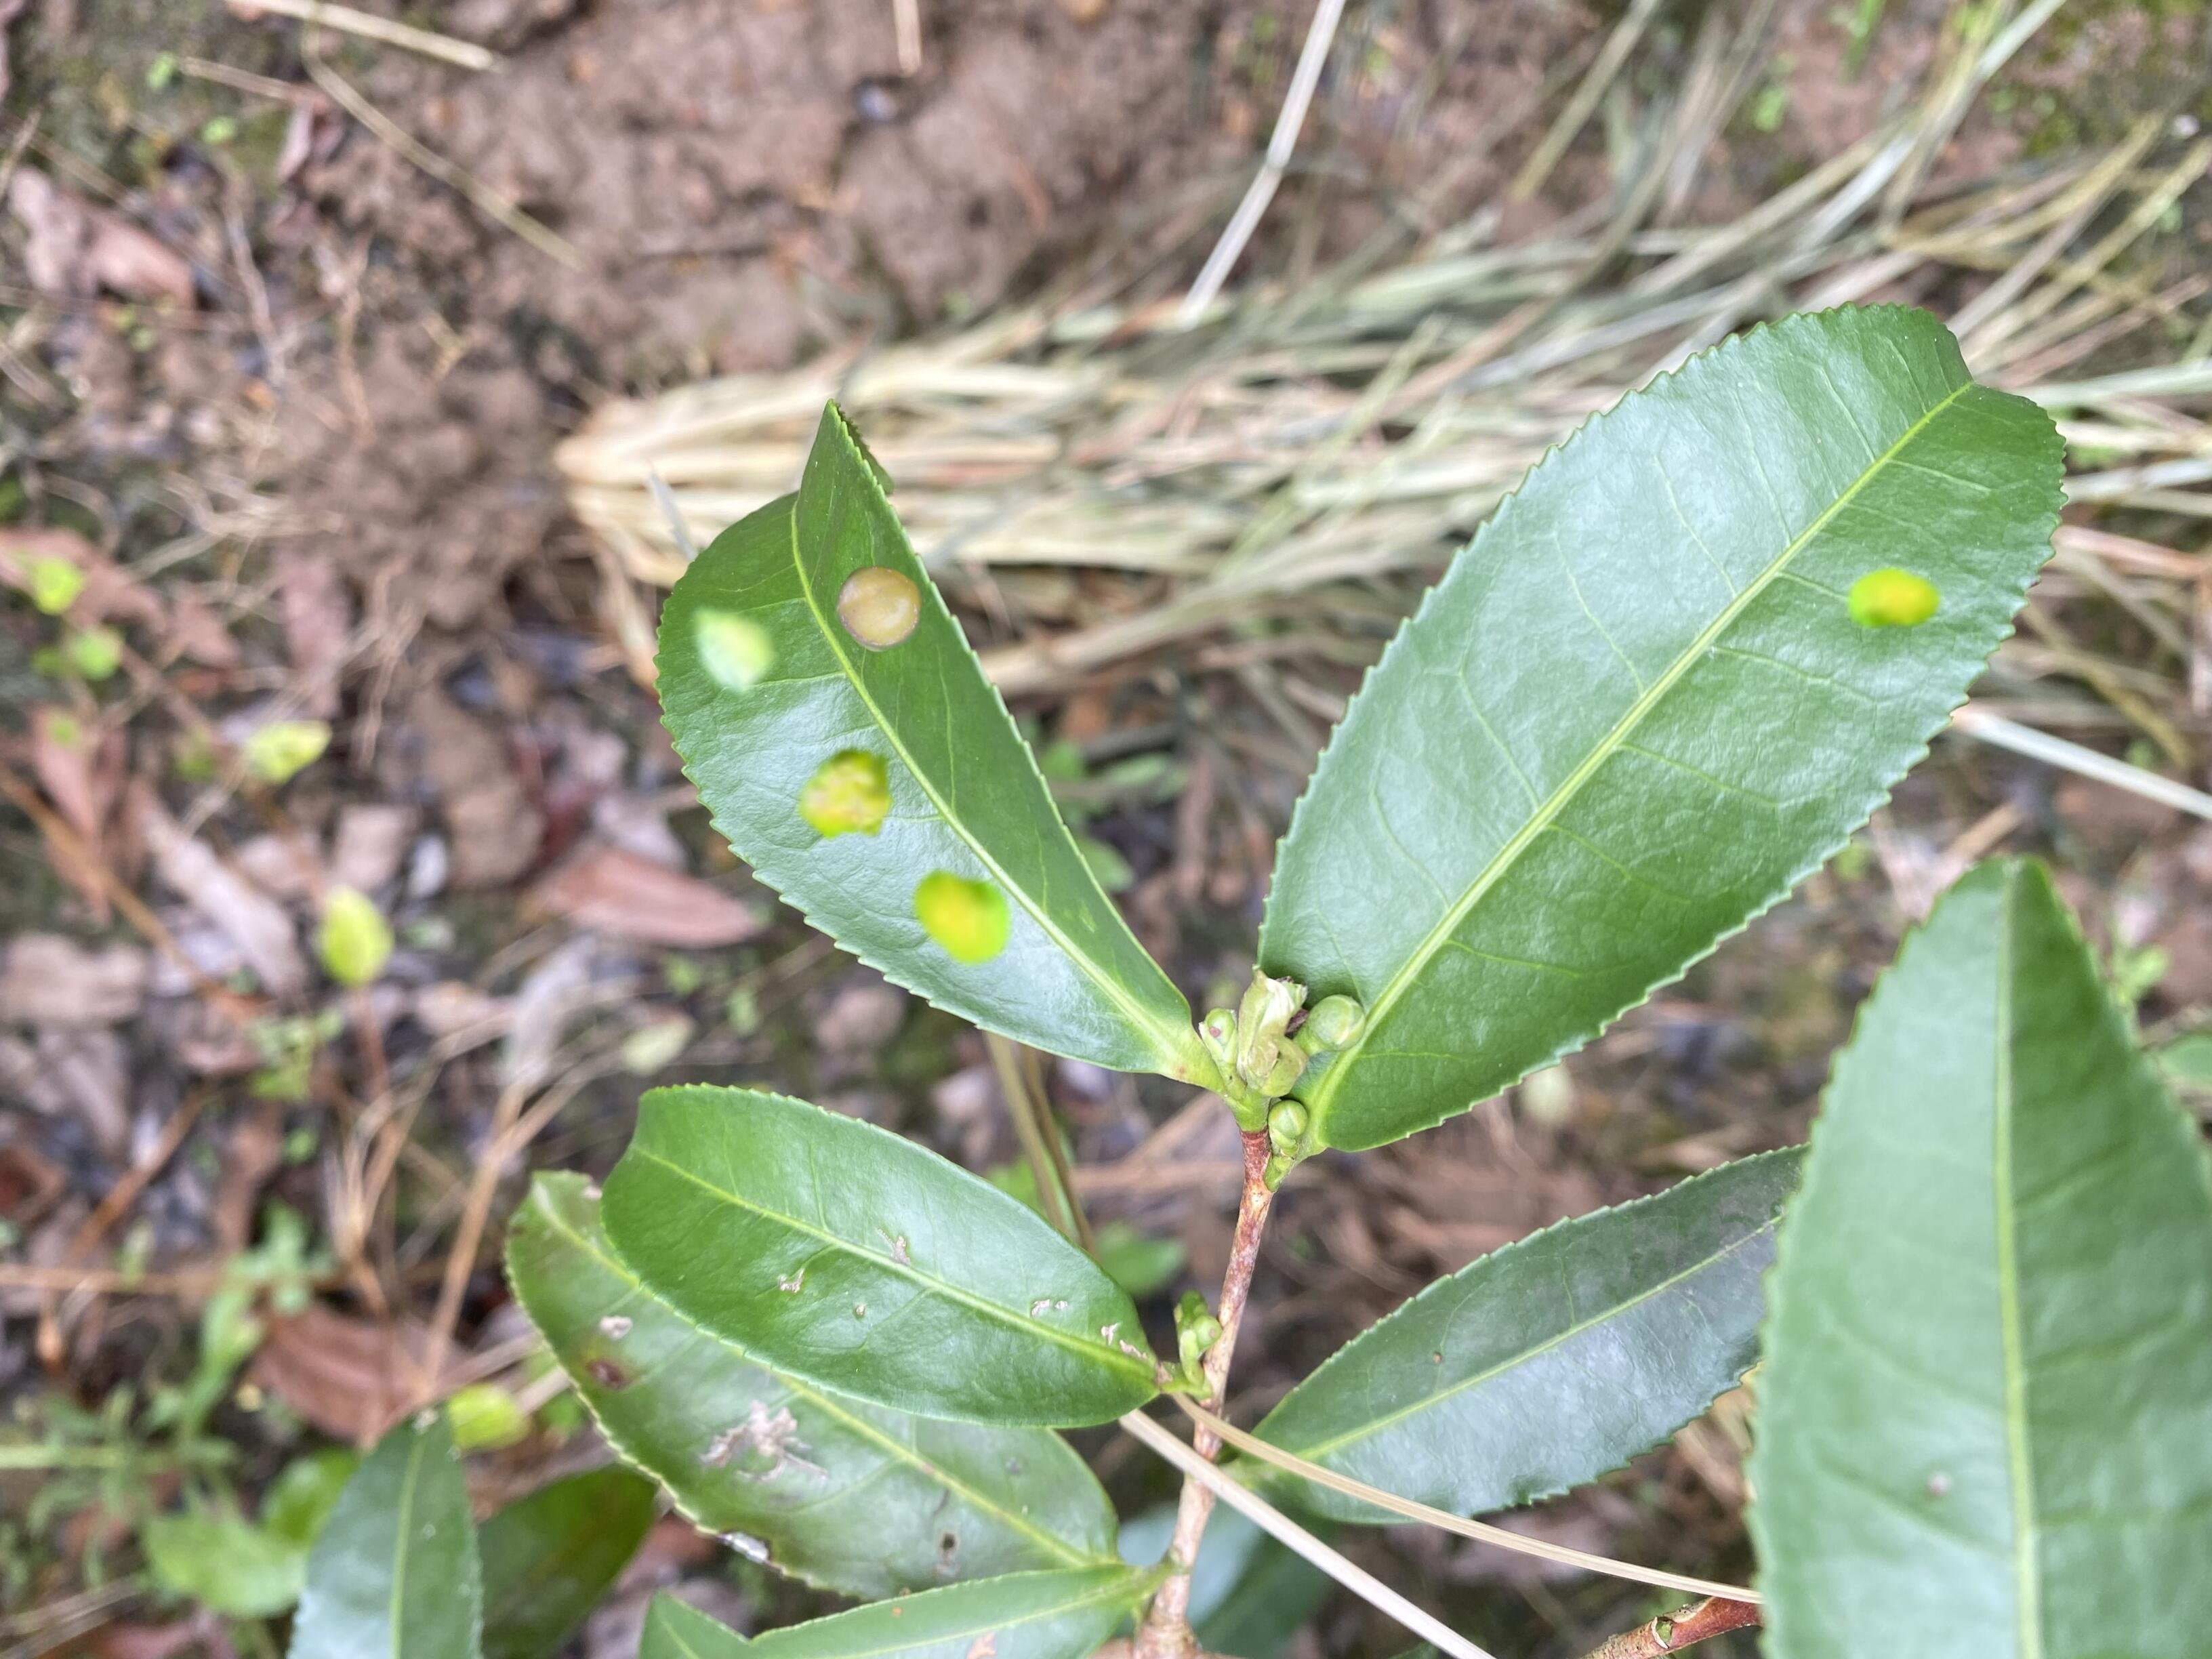chabing_high: (648, 399, 1188, 1070)
chabing_low: (1249, 307, 2069, 1154)
healthy: (1761, 864, 2205, 1650), (1249, 1147, 1775, 1525)
tanju_low: (498, 1169, 1115, 1582), (604, 1086, 1163, 1425)
